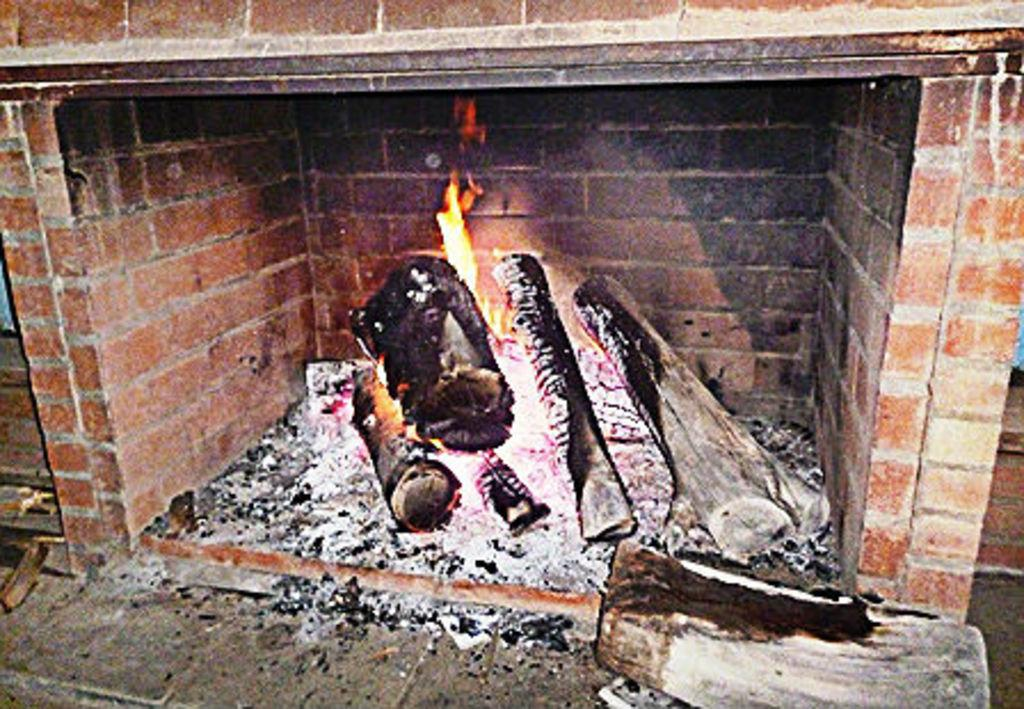Fire: (297, 151, 713, 458)
